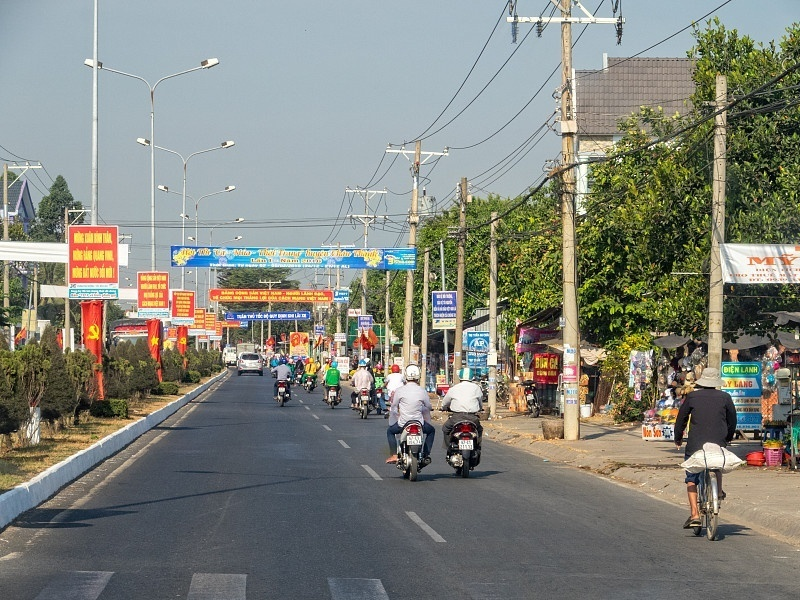non-vehicle: (683, 453, 727, 540), (393, 416, 430, 477), (445, 416, 481, 477), (351, 385, 375, 415), (273, 375, 292, 407), (325, 382, 340, 406), (304, 371, 317, 390)
